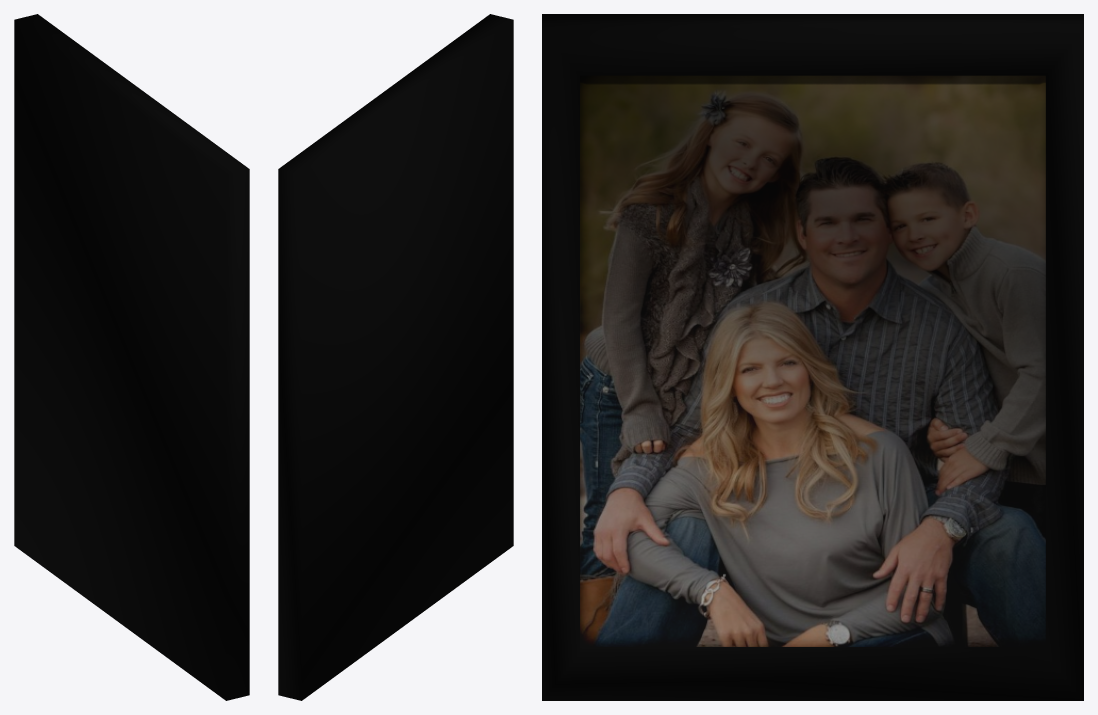
Rendered from Photo.glb.
The picture shows the model from 3 angles, left to right: view 1: azimuth 30°, elevation 25°; view 2: azimuth 150°, elevation 25°; view 3: azimuth 270°, elevation 25°; orthographic projection. The views are drawn at different scales.
Visible parts, largest first — view 1: Frame; view 2: Frame; view 3: Frame.
Boxes of the visible parts, x1,y1,x2,y2 form: Frame: (14, 14, 249, 700); Frame: (278, 14, 513, 700); Frame: (542, 14, 1083, 700).
Size of what is drawn, in the model's own units: 0.0629 by 1.34 by 0.9816.
Materials: 1 (1 with a texture image).
